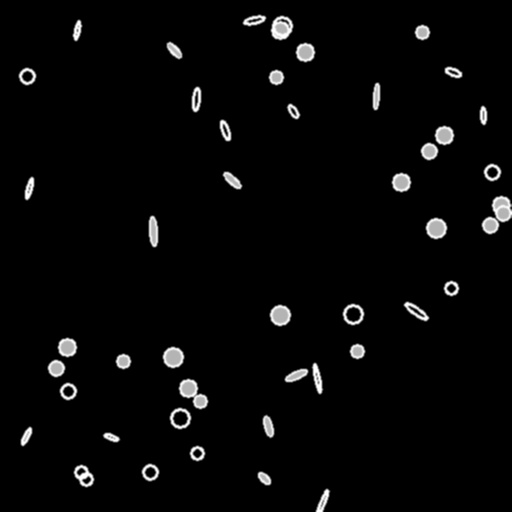pseudomonas: (403, 301, 429, 321), (222, 170, 242, 190), (314, 489, 330, 512), (285, 367, 307, 383), (165, 41, 183, 59), (218, 119, 232, 141), (312, 364, 322, 392), (262, 415, 274, 437), (191, 87, 201, 111), (149, 216, 157, 246), (286, 103, 300, 119), (256, 471, 272, 485), (243, 15, 265, 25), (24, 177, 34, 199), (20, 427, 32, 445), (444, 66, 462, 78), (103, 432, 119, 442), (373, 84, 379, 108), (73, 21, 81, 39), (480, 106, 486, 124)
synechocystis: (344, 305, 362, 323), (427, 219, 445, 237), (171, 409, 189, 427), (271, 306, 289, 324), (164, 348, 182, 366), (273, 17, 291, 35), (493, 197, 509, 213), (180, 380, 196, 396), (272, 22, 288, 38), (393, 174, 409, 190), (59, 339, 75, 355), (297, 44, 313, 60), (436, 127, 452, 143), (496, 206, 510, 220), (20, 69, 34, 83), (49, 361, 63, 375), (485, 165, 499, 179), (483, 218, 497, 232), (61, 384, 75, 398), (143, 465, 157, 479), (422, 144, 436, 158), (194, 395, 206, 407), (191, 447, 203, 459), (75, 466, 87, 478), (270, 71, 282, 83), (351, 345, 363, 357), (80, 473, 92, 485), (117, 355, 129, 367), (416, 26, 428, 38), (445, 282, 457, 294)
